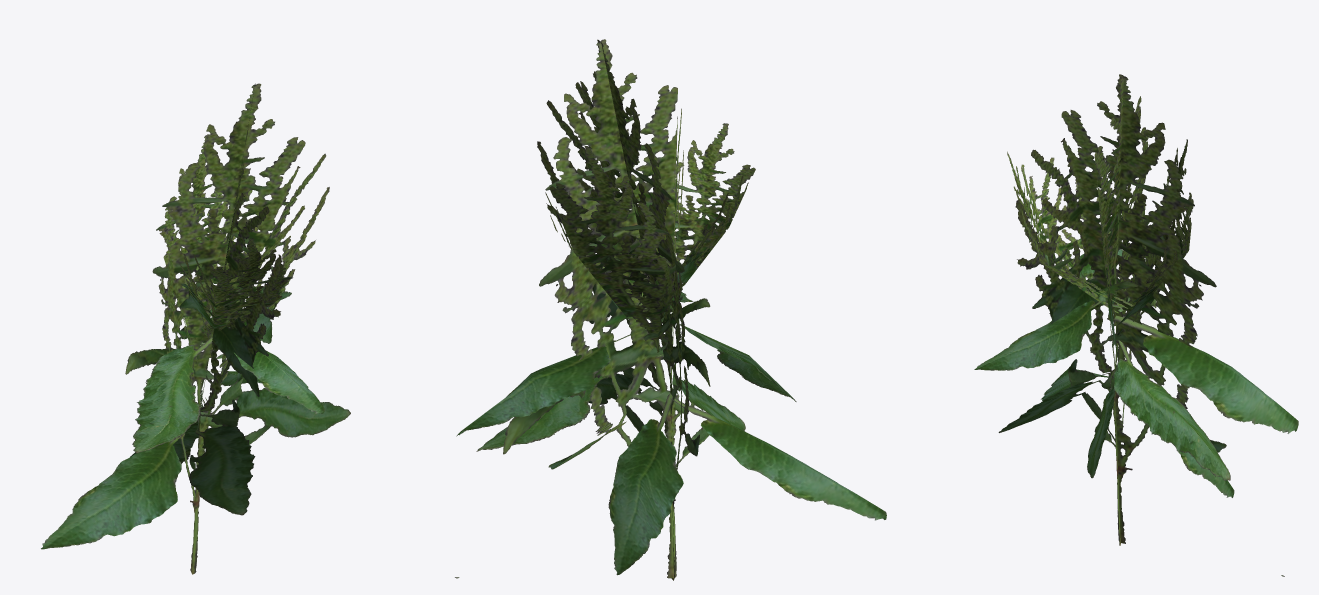
Rendered from Forest_Plant2.fbx.
3 renders of one model, left to right at view 1: azimuth 30°, elevation 25°; view 2: azimuth 150°, elevation 25°; view 3: azimuth 270°, elevation 25°, orthographic. The views are drawn at different scales.
Visible parts, largest first — view 1: forest_plant2; view 2: forest_plant2; view 3: forest_plant2.
Part boxes in pixels (<box>): forest_plant2: <box>41,83,350,574</box>; forest_plant2: <box>455,39,886,580</box>; forest_plant2: <box>974,74,1298,576</box>.
Bounding box in the file's own units: 1.6 × 2.07 × 1.38.
